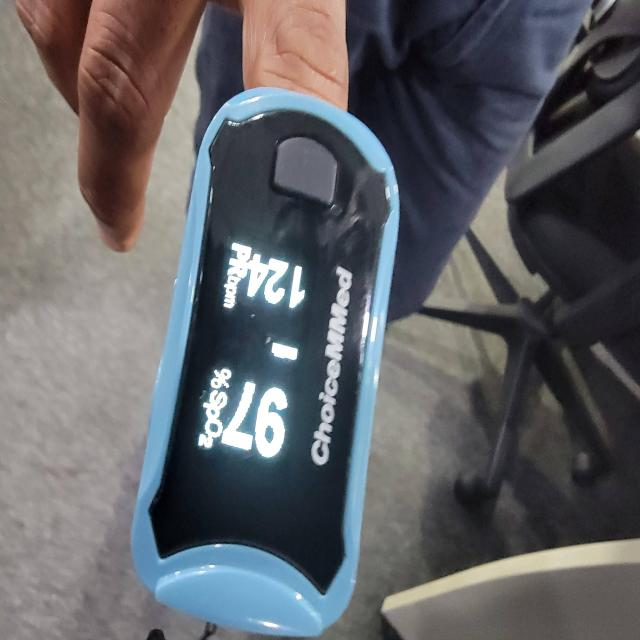spo2: (129, 88, 401, 640)
